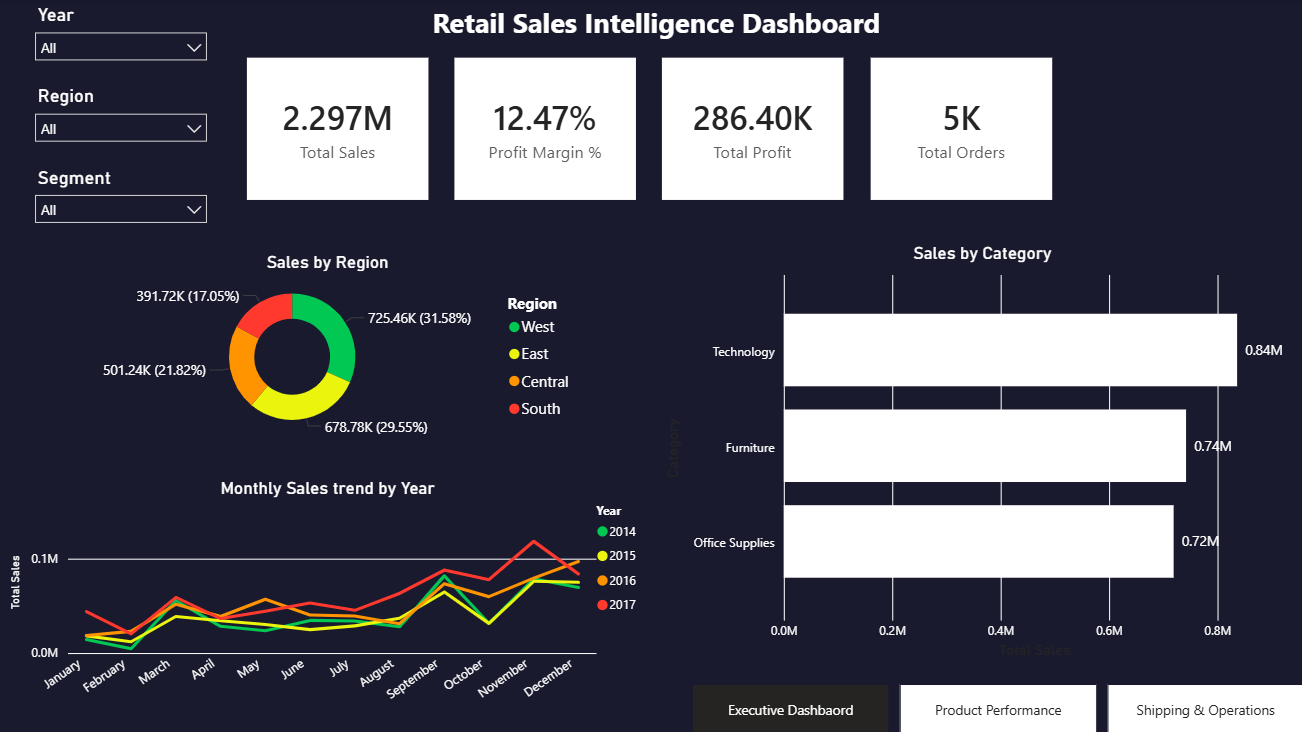

The dashboard page shown, as its layout file describes it:
{"tool":"powerbi","page":{"name":"Executive Dashbaord","canvas":[1280,720],"ordinal":0},"visuals":[{"type":"textbox","box":[9.6,0,1270.7,52.1],"z":0},{"type":"cardVisual","fields":{"Data":["_Measures.Total Sales"]},"box":[240.1,52.6,187.5,149.7],"z":0,"group":"g1"},{"type":"group","id":"g1","title":"Group 1","box":[240.1,52.6,797.3,149.7],"z":1000},{"type":"cardVisual","fields":{"Data":["_Measures.Total Profit"]},"box":[646.6,52.6,187.5,149.7],"z":1000,"group":"g1"},{"type":"cardVisual","fields":{"Data":["_Measures.Total Orders"]},"box":[849.9,52.6,187.5,149.7],"z":2000,"group":"g1"},{"type":"lineChart","title":"Monthly Sales trend by Year","fields":{"Category":["Sample - Superstore.Order Date.Variation.Date Hierarchy.Month"],"Y":["_Measures.Total Sales"],"Series":["Sample - Superstore.Order Date.Variation.Date Hierarchy.Year"]},"box":[7.3,468.3,632.2,239.7],"z":2000},{"type":"cardVisual","fields":{"Data":["_Measures.Profit Margin %"]},"box":[443.4,52.6,187.5,149.7],"z":3000,"group":"g1"},{"type":"clusteredBarChart","title":"Sales by Category","fields":{"Category":["Sample - Superstore.Category"],"Y":["_Measures.Total Sales"]},"box":[648.1,238.5,632.2,412.1],"z":3000},{"type":"donutChart","title":"Sales by Region","fields":{"Category":["Sample - Superstore.Region"],"Y":["_Measures.Total Sales"]},"box":[73.4,247,500.1,187.1],"z":4000},{"type":"slicer","fields":{"Values":["Sample - Superstore.Order Date.Variation.Date Hierarchy.Year"]},"box":[26.9,0,188.3,79.5],"z":5000},{"type":"slicer","fields":{"Values":["Sample - Superstore.Region"]},"box":[26.9,79.5,188.3,79.5],"z":6000},{"type":"slicer","fields":{"Values":["Sample - Superstore.Segment"]},"box":[26.9,159,188.3,79.5],"z":7000},{"type":"pageNavigator","box":[679.9,670.1,600.4,50.1],"z":7001}]}

Visuals, with their boxes in screenshot pixels (x1, y1, x2, y2), scaled from the page's 1280x720 canvas onto the 1302x732 screenshot:
textbox: 10 0 1301 53
cardVisual - _Measures.Total Sales: 244 53 435 206
"Group 1" group: 244 53 1055 206
cardVisual - _Measures.Total Profit: 658 53 848 206
cardVisual - _Measures.Total Orders: 865 53 1055 206
"Monthly Sales trend by Year" lineChart: 7 476 650 720
cardVisual - _Measures.Profit Margin %: 451 53 642 206
"Sales by Category" clusteredBarChart: 659 242 1301 661
"Sales by Region" donutChart: 75 251 583 441
slicer - Sample - Superstore.Order Date.Variation.Date Hierarchy.Year: 27 0 219 81
slicer - Sample - Superstore.Region: 27 81 219 162
slicer - Sample - Superstore.Segment: 27 162 219 242
pageNavigator: 692 681 1301 731
